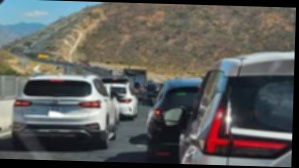Bien-so: (48, 106, 63, 117)
